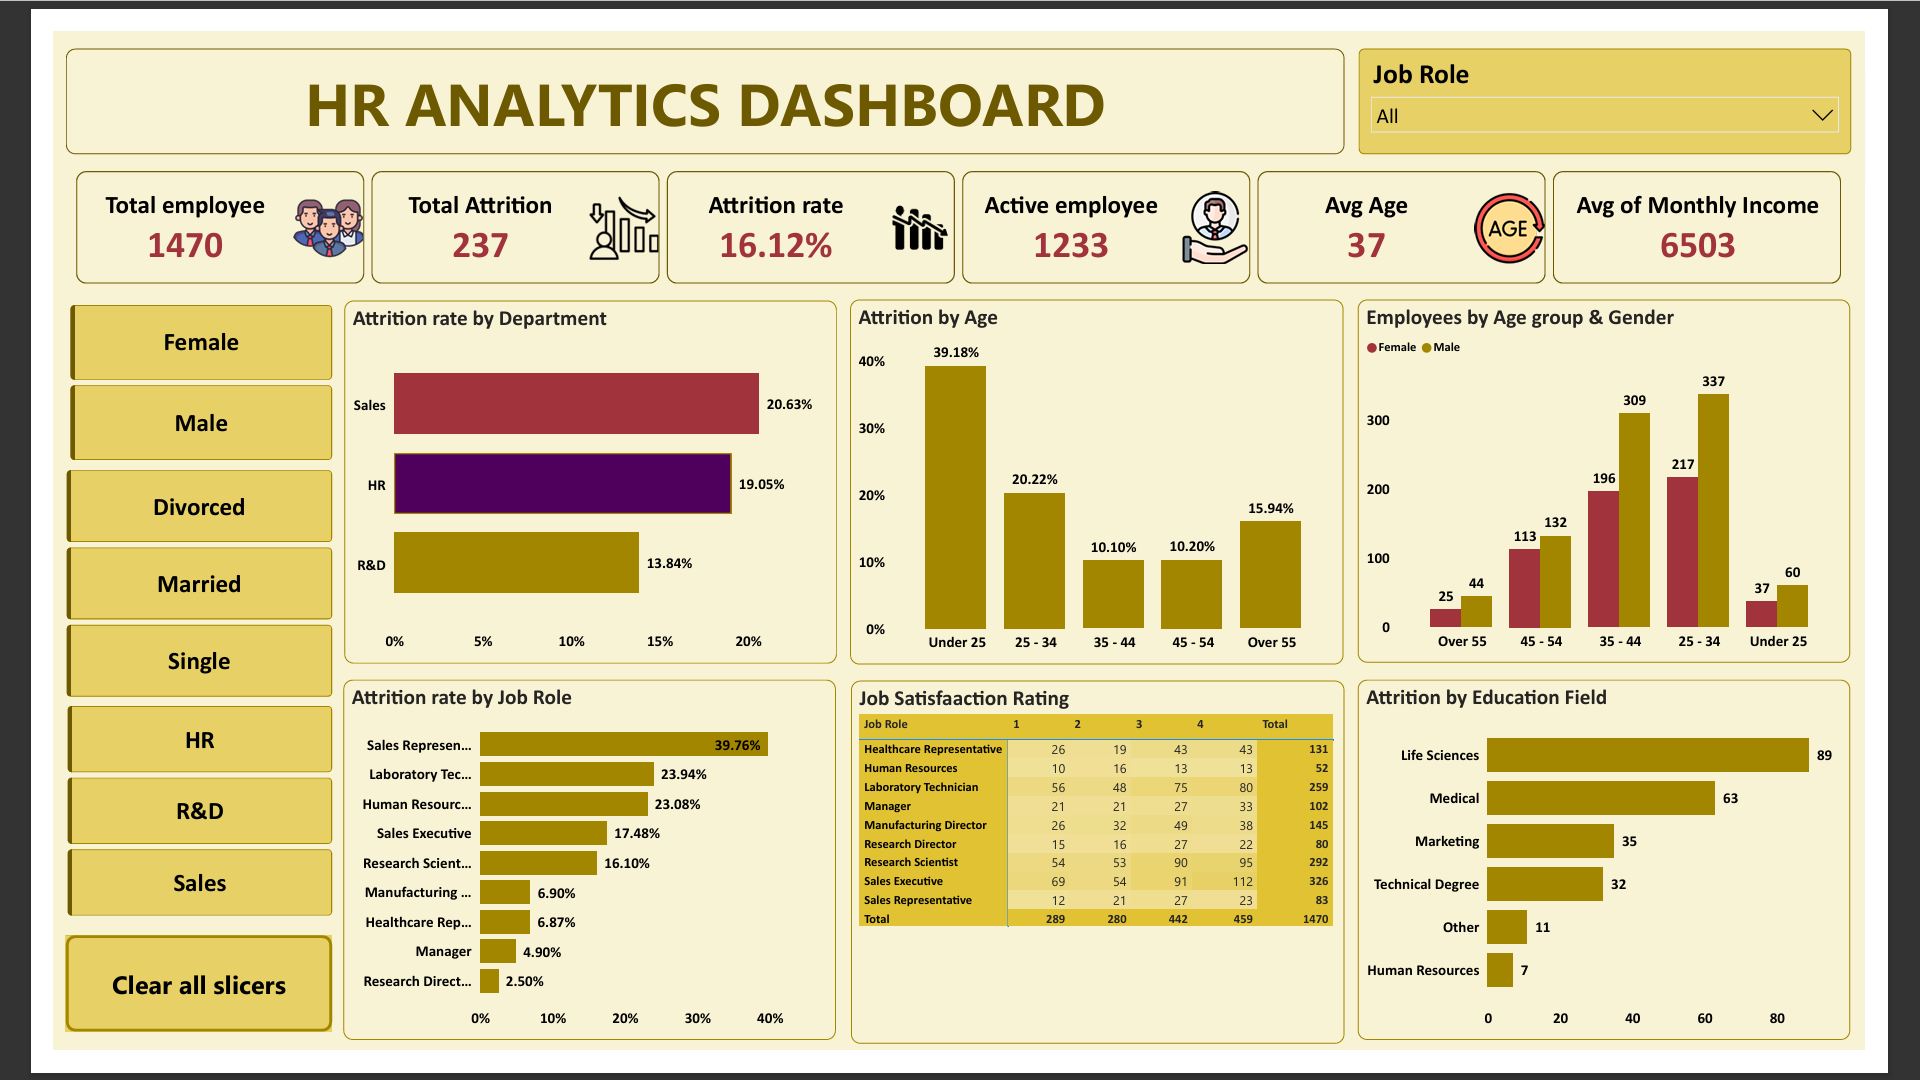

The dashboard page shown, as its layout file describes it:
{"tool":"powerbi","page":{"name":"Page 1","canvas":[1920,1080],"ordinal":0},"visuals":[{"type":"cardVisual","fields":{"Data":["HR data.Total employee","HR data.Total Attrition","HR data.Attrition rate","HR data.Active employee","Avg(HR data.Age)","Avg(HR data.Monthly Income)"]},"box":[6.7,131.1,1904.4,153.3],"z":0},{"type":"clusteredColumnChart","title":"Employees by Age group & Gender","fields":{"Category":["HR data.Age Group"],"Series":["HR data.Gender"],"Y":["HR data.Total employee"]},"box":[1382.2,284.4,522.2,384.4],"z":1000},{"type":"clusteredColumnChart","title":"Attrition Rate by Age","fields":{"Category":["HR data.Age Group"],"Y":["HR data.Attrition rate"]},"box":[844.4,284.4,522.2,386.7],"z":2000},{"type":"barChart","title":"Attrition rate  by Department","fields":{"Category":["HR data.Department"],"Y":["HR data.Attrition rate"]},"box":[307.5,285,522.5,385],"z":3000},{"type":"clusteredBarChart","fields":{"Category":["HR data.Job Role"],"Y":["HR data.Attrition rate"]},"box":[306.7,686.7,522.2,382.2],"z":4000},{"type":"clusteredBarChart","title":"Attrition by Education Field","fields":{"Category":["HR data.Education Field"],"Y":["HR data.Total Attrition"]},"box":[1382.2,686.7,522.2,382.2],"z":5000},{"type":"advancedSlicerVisual","fields":{"Values":["HR data.Gender"]},"box":[12.5,285,287.5,175],"z":6000},{"type":"advancedSlicerVisual","fields":{"Values":["HR data.Marital Status"]},"box":[8.9,460,291.1,251.1],"z":7000},{"type":"advancedSlicerVisual","fields":{"Values":["HR data.Department"]},"box":[10,710,290,232.5],"z":8000},{"type":"actionButton","box":[12.5,957.5,282.5,102.5],"z":9000},{"type":"pivotTable","title":"Job Satisfaction Rating","fields":{"Columns":["HR data.Job Satisfaction"],"Rows":["HR data.Job Role"],"Values":["HR data.Total employee"]},"box":[845,687.5,522.5,385],"z":10000},{"type":"shape","box":[12.5,17.5,1355,112.5],"z":11000},{"type":"slicer","fields":{"Values":["HR data.Job Role"]},"box":[1382.5,17.5,522.5,112.5],"z":12000}]}

Visuals, with their boxes in screenshot pixels (x1, y1, x2, y2), scaled from the page's 1920x1080 canvas onto the 1920x1080 screenshot:
cardVisual - HR data.Total employee x HR data.Total Attrition: bbox=[7, 131, 1911, 284]
"Employees by Age group & Gender" clusteredColumnChart: bbox=[1382, 284, 1904, 669]
"Attrition Rate by Age" clusteredColumnChart: bbox=[844, 284, 1367, 671]
"Attrition rate  by Department" barChart: bbox=[308, 285, 830, 670]
clusteredBarChart - HR data.Job Role x HR data.Attrition rate: bbox=[307, 687, 829, 1069]
"Attrition by Education Field" clusteredBarChart: bbox=[1382, 687, 1904, 1069]
advancedSlicerVisual - HR data.Gender: bbox=[12, 285, 300, 460]
advancedSlicerVisual - HR data.Marital Status: bbox=[9, 460, 300, 711]
advancedSlicerVisual - HR data.Department: bbox=[10, 710, 300, 942]
actionButton: bbox=[12, 958, 295, 1060]
"Job Satisfaction Rating" pivotTable: bbox=[845, 688, 1368, 1072]
shape: bbox=[12, 18, 1368, 130]
slicer - HR data.Job Role: bbox=[1382, 18, 1905, 130]
